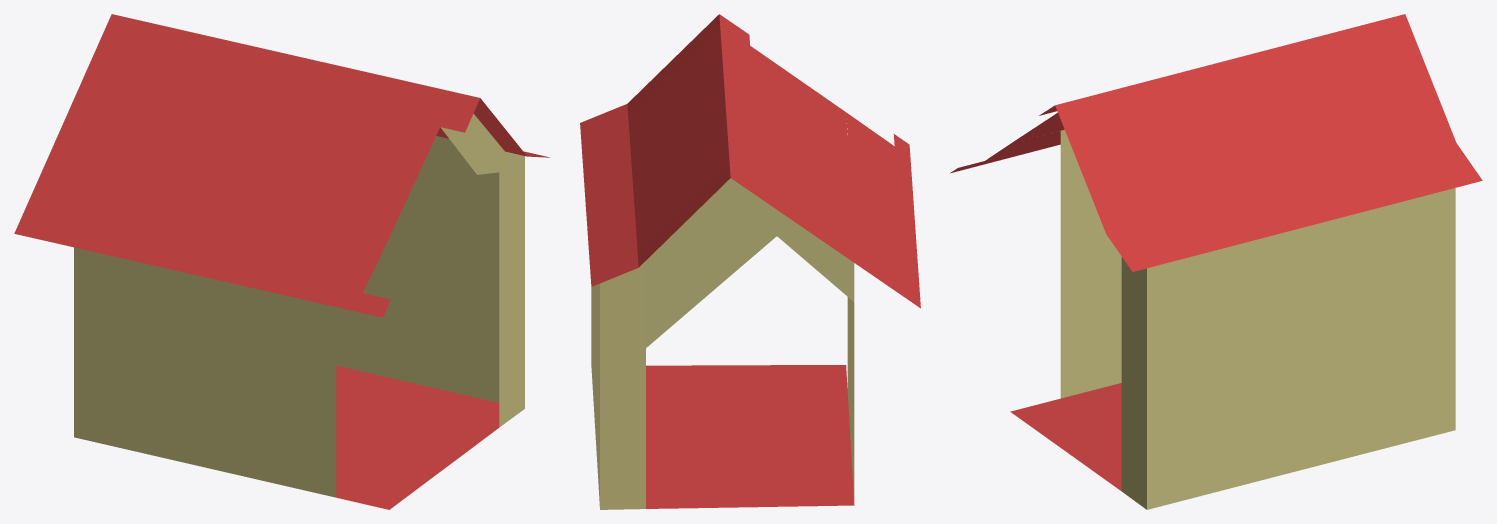
3 renders of one model, left to right at view 1: azimuth 30°, elevation 25°; view 2: azimuth 150°, elevation 25°; view 3: azimuth 270°, elevation 25°, orthographic. The views are drawn at different scales.
Size of the model in its own units: 20.83 by 21.65 by 16.15.
